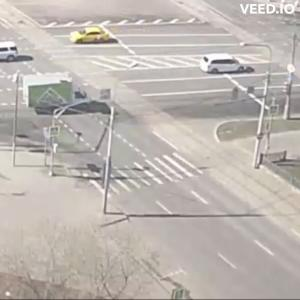car: (24, 73, 94, 113), (202, 55, 256, 76), (70, 26, 114, 43), (1, 42, 21, 63)
